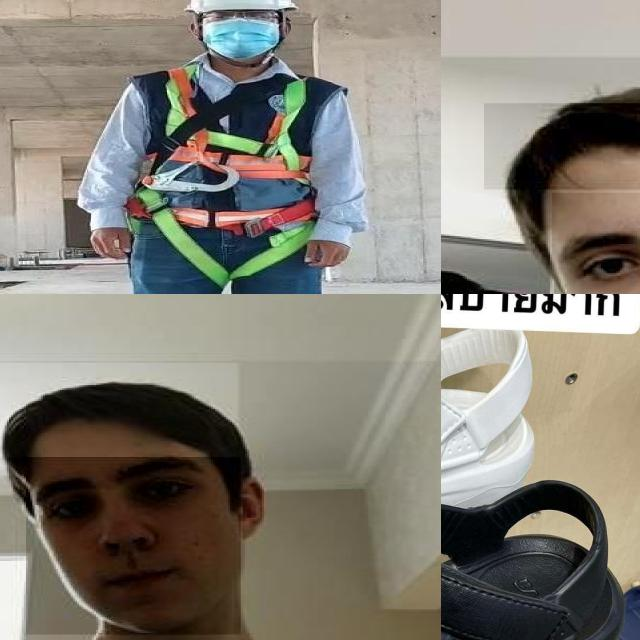No_Ear-Protection: (225, 473, 276, 544), (180, 15, 205, 50), (288, 14, 299, 43)
No_Glasses: (542, 188, 640, 282)
Sandals: (441, 444, 640, 640), (441, 294, 549, 605)
face_mask: (200, 20, 283, 66)
face_nomask: (26, 457, 241, 635)
hand_noglove: (79, 211, 140, 272), (304, 218, 354, 288)
head_nohelmet: (0, 362, 238, 457), (483, 103, 640, 189)
person: (0, 360, 441, 640), (74, 0, 369, 294), (441, 56, 640, 294)
